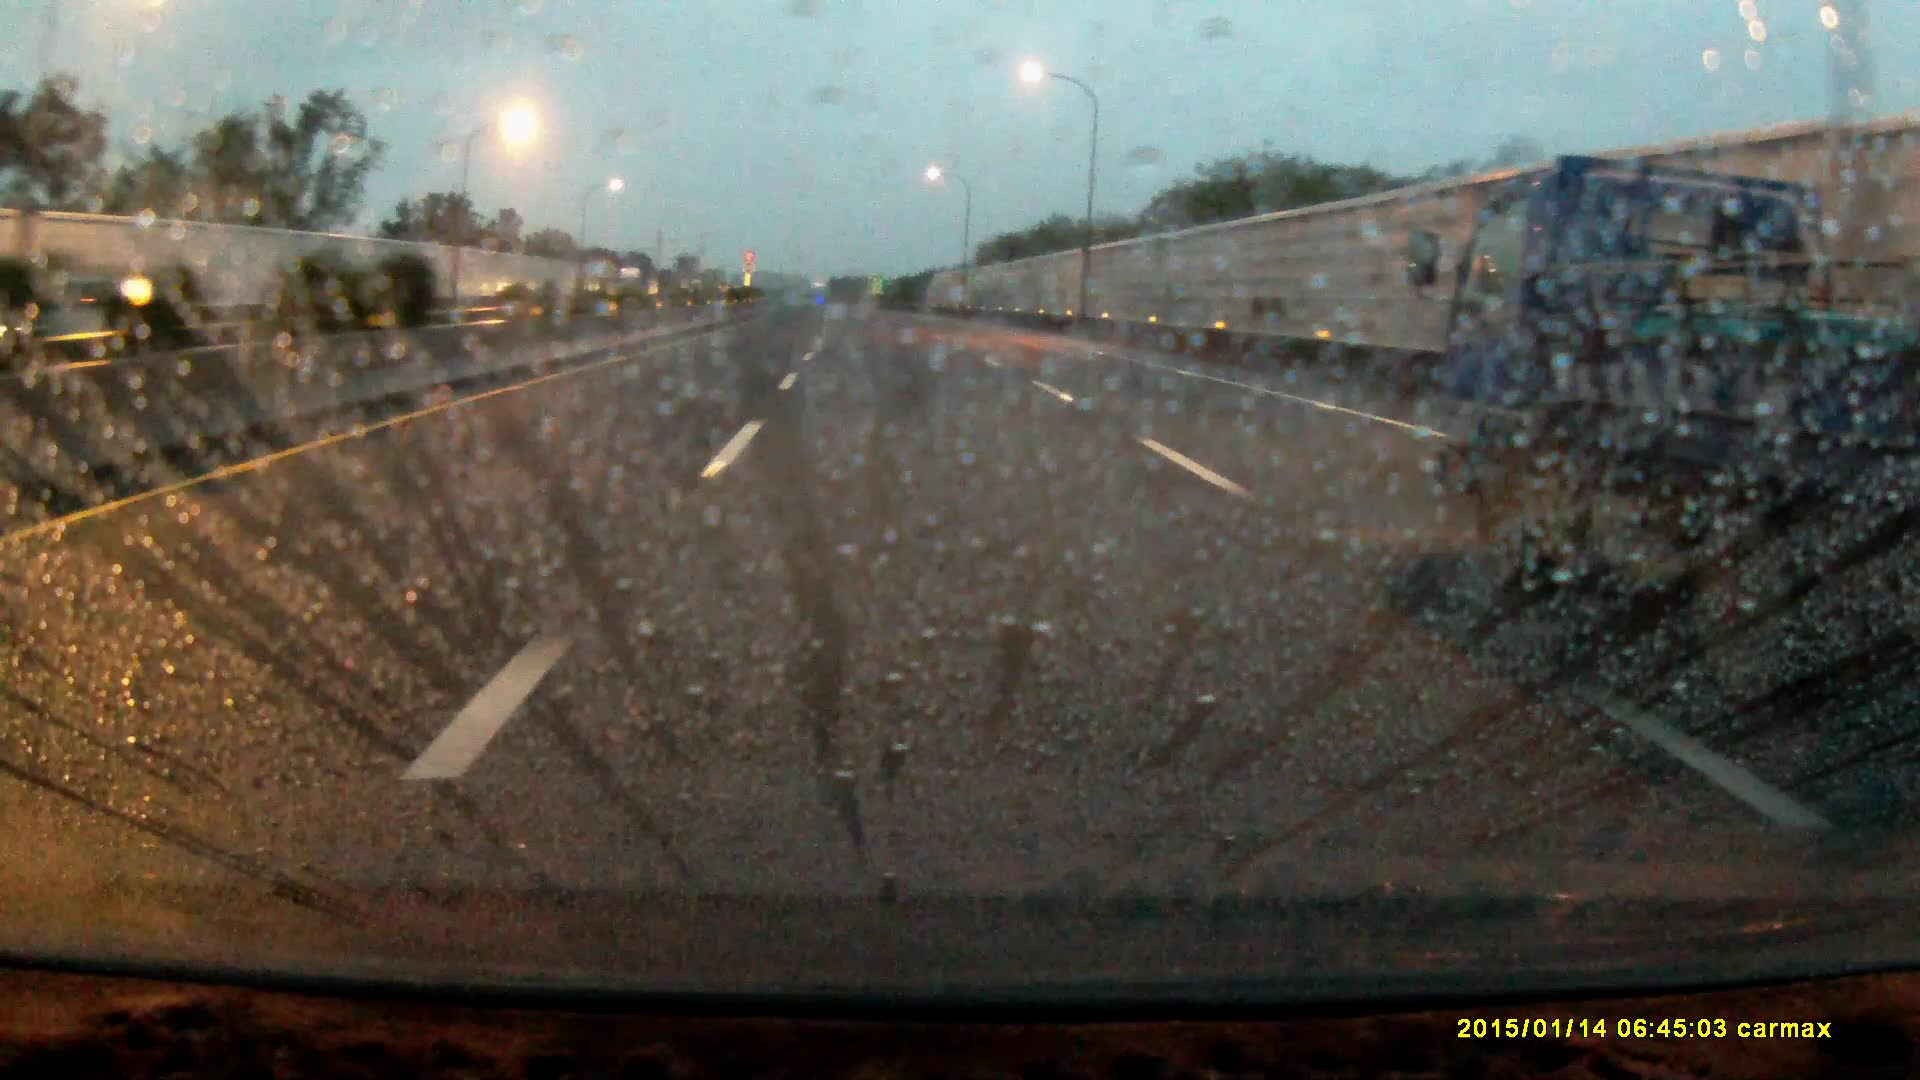vehicle: (1437, 162, 1920, 612), (1, 277, 131, 364), (618, 268, 651, 303)
